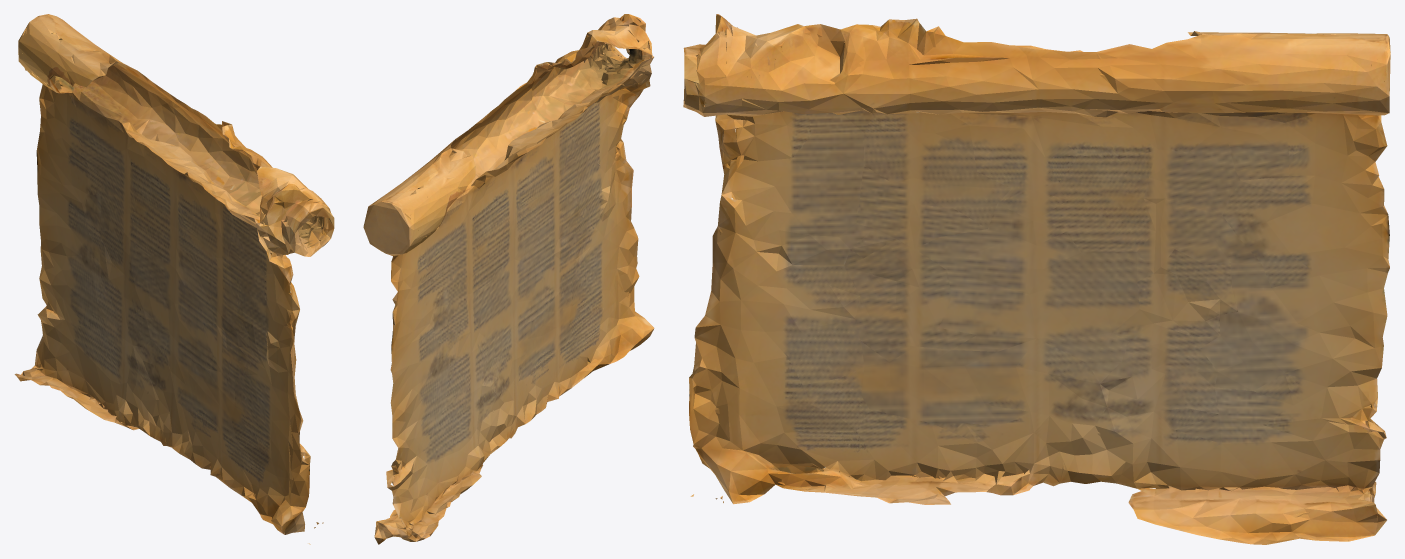
Rendered from parchment_paper_from__0422204123_texture.fbx.
3 renders of one model, left to right at view 1: azimuth 30°, elevation 25°; view 2: azimuth 150°, elevation 25°; view 3: azimuth 270°, elevation 25°, orthographic. The views are drawn at different scales.
Visible parts, largest first — view 1: temp; view 2: temp; view 3: temp.
Boxes of the visible parts, x1,y1,x2,y2 form: temp: [14, 14, 334, 544]; temp: [363, 14, 654, 544]; temp: [683, 14, 1390, 544].
Bounding box in the file's own units: 33.57 × 160 × 200.
1 material, 1 textured.
